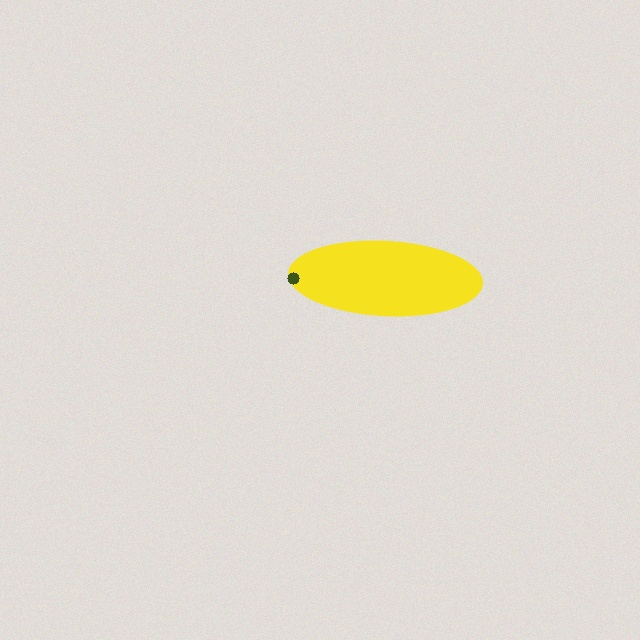Fresh banana: (284, 232, 486, 324)
